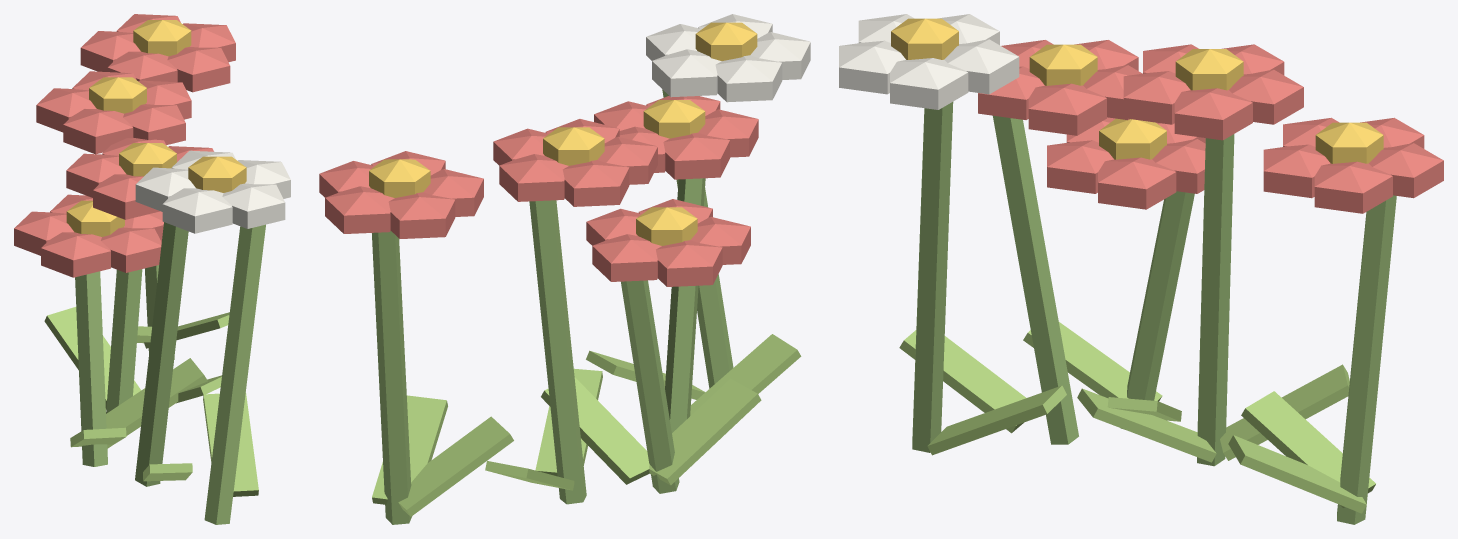
File: flowers_red.glb
3 renders of one model, left to right at view 1: azimuth 30°, elevation 25°; view 2: azimuth 150°, elevation 25°; view 3: azimuth 270°, elevation 25°, orthographic. The views are drawn at different scales.
Visible parts, largest first — view 1: flowers_red; view 2: flowers_red; view 3: flowers_red.
Part boxes in pixels (x1=…): flowers_red: x1=14, y1=14, x2=290, y2=524; flowers_red: x1=319, y1=14, x2=810, y2=524; flowers_red: x1=839, y1=14, x2=1443, y2=524.
Size of the model in its own units: 0.552 by 0.6623 by 0.8469.
